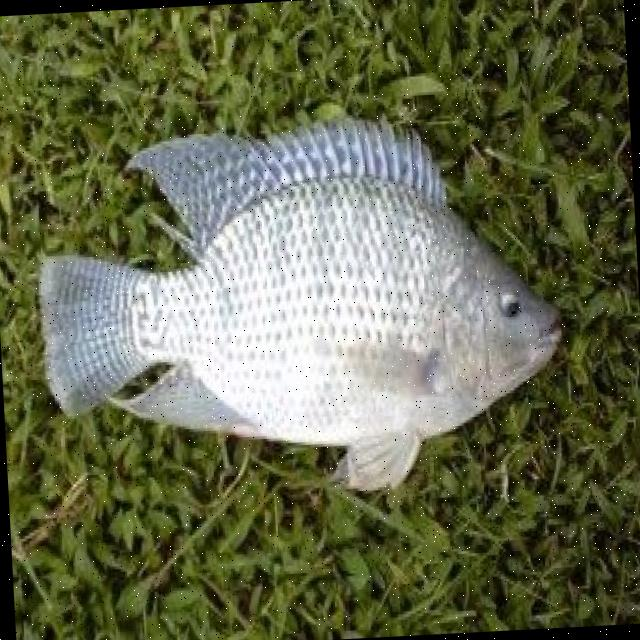ikan: (30, 102, 573, 510)
